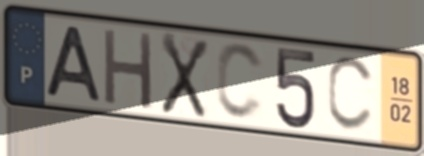5: (272, 43, 318, 131)
A: (42, 23, 104, 105)
C: (213, 40, 267, 124), (324, 55, 378, 136)
H: (101, 25, 156, 113)
X: (158, 29, 211, 122)
